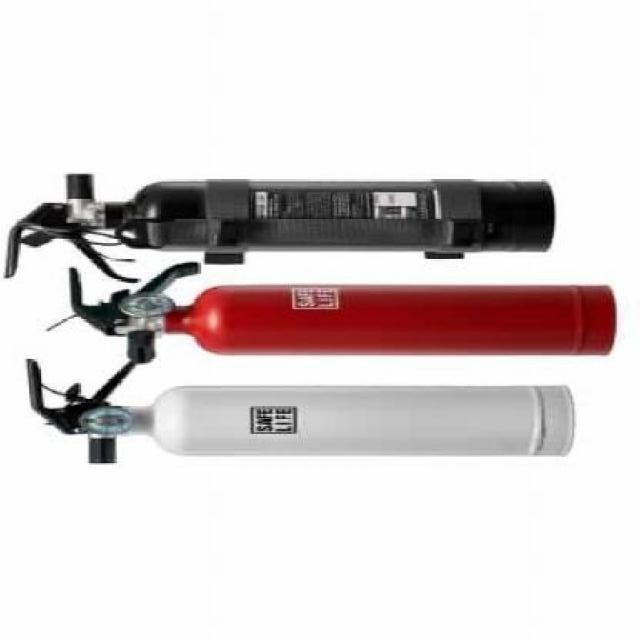fire extinguisher: (5, 173, 557, 284), (25, 359, 577, 465), (67, 262, 618, 363)
